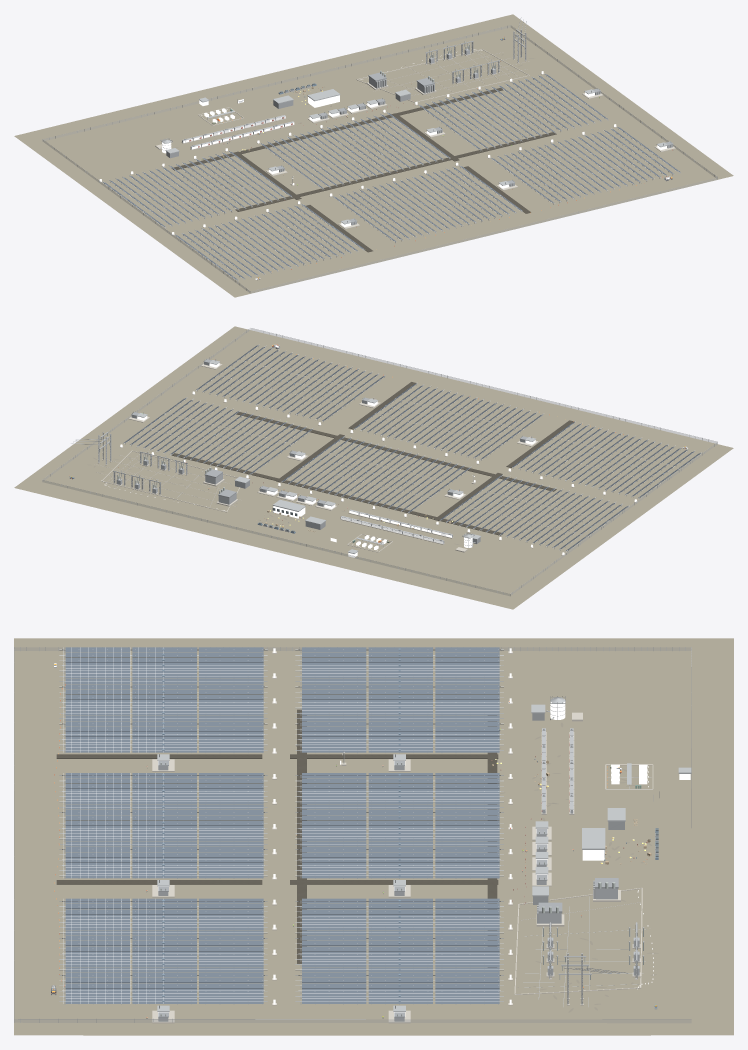
File: solarpower.glb
3 renders of one model, top to bottom at view 1: azimuth 30°, elevation 25°; view 2: azimuth 150°, elevation 25°; view 3: azimuth 270°, elevation 25°, orthographic. The views are drawn at different scales.
Parts seen in each view (by area): view 1: structure/mat_8b8166_38, structure/road, fence/mesh, structure/mat_c6d1d7_3, structure/concrete, galv/galv, structure/roof, structure/seam, structure/silo, structure/gray, structure/steelD, structure/mat_ffffff_41 (+1 smaller); view 2: structure/mat_8b8166_38, structure/road, fence/mesh, structure/mat_c6d1d7_3, structure/concrete, structure/roof, galv/galv, structure/gray, structure/seam, fence/galv, structure/silo, structure/steelD (+1 smaller); view 3: structure/mat_8b8166_38, structure/road, structure/mat_c6d1d7_3, structure/concrete, fence/mesh, structure/roof, structure/gray, structure/seam, structure/steelD, galv/galv, fence/galv, fleet/fleet_m26/mat_3c495a_1 (+122 smaller).
Boxes of the visible parts, box(x1,y1,x2,y2) form: structure/mat_8b8166_38: box(14, 14, 733, 297); structure/road: box(171, 87, 556, 252); fence/mesh: box(43, 25, 717, 293); structure/mat_c6d1d7_3: box(102, 75, 680, 281); structure/concrete: box(99, 49, 675, 235); galv/galv: box(160, 21, 672, 225); structure/roof: box(165, 89, 667, 224); structure/seam: box(162, 50, 528, 150); structure/silo: box(99, 71, 667, 234); structure/gray: box(182, 48, 671, 224); structure/steelD: box(185, 18, 672, 222); structure/mat_ffffff_41: box(183, 116, 294, 149); structure/mat_8b8166_38: box(14, 326, 733, 609); structure/road: box(172, 382, 574, 535); fence/mesh: box(42, 328, 717, 595); structure/mat_c6d1d7_3: box(123, 344, 701, 551); structure/concrete: box(98, 363, 637, 555); structure/roof: box(137, 360, 535, 553); galv/galv: box(98, 359, 532, 547); structure/gray: box(116, 362, 525, 543); structure/seam: box(98, 454, 472, 547); fence/galv: box(42, 329, 716, 595); structure/silo: box(120, 363, 636, 554); structure/steelD: box(71, 359, 527, 540); structure/mat_8b8166_38: box(14, 638, 733, 1035); structure/road: box(56, 709, 498, 967); structure/mat_c6d1d7_3: box(59, 649, 503, 1004); structure/concrete: box(152, 651, 653, 1023); fence/mesh: box(14, 647, 691, 1022); structure/roof: box(157, 704, 691, 1011); structure/gray: box(158, 752, 658, 1021); structure/seam: box(518, 705, 651, 1006); structure/steelD: box(158, 728, 627, 1017); galv/galv: box(158, 696, 644, 1020); fence/galv: box(14, 647, 691, 1022); fleet/fleet_m26/mat_3c495a_1: box(65, 673, 263, 678).
Size of the model in its own units: 676 by 36.38 by 518.
Materials: 42 (3 with a texture image).
